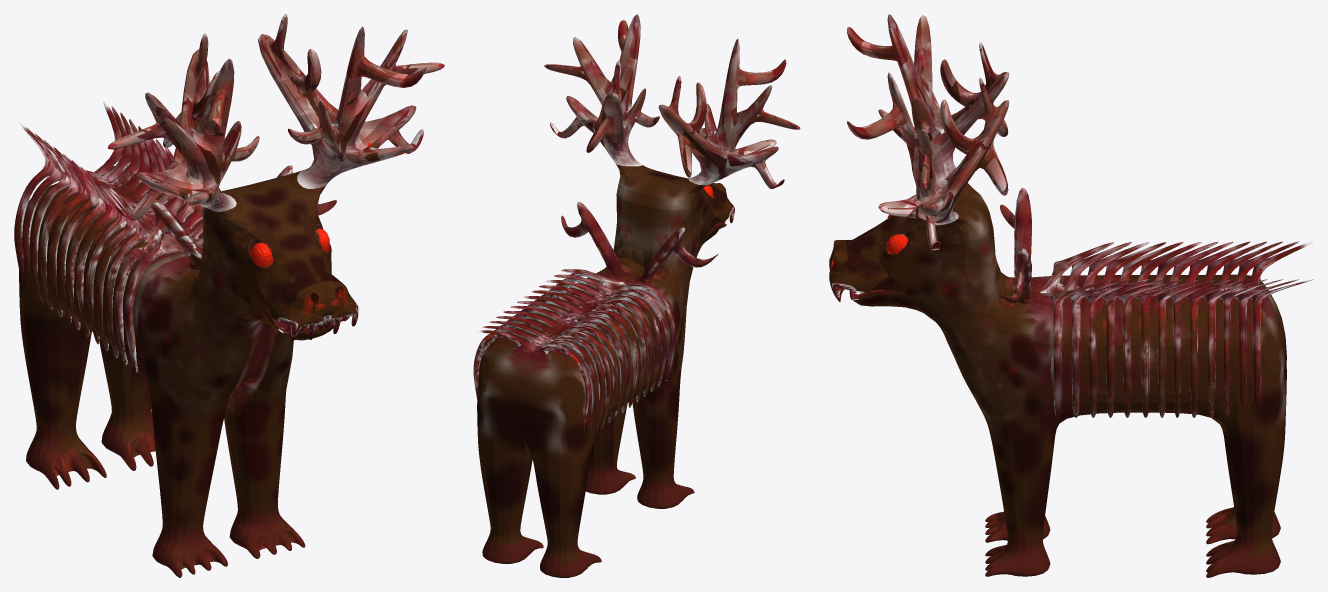
File: DeerMob.fbx
3 views of the same model, side by side, from view 1: azimuth 30°, elevation 25°; view 2: azimuth 150°, elevation 25°; view 3: azimuth 270°, elevation 25° (orthographic). The views are drawn at different scales.
Parts seen in each view (by area): view 1: Cube; view 2: Cube; view 3: Cube.
Part boxes in pixels (bbox=[...]): Cube: bbox=[14, 14, 444, 577]; Cube: bbox=[473, 14, 800, 577]; Cube: bbox=[829, 14, 1313, 577].
Size of the model in its own units: 541 by 860 by 744.
3 materials, 3 textured.
